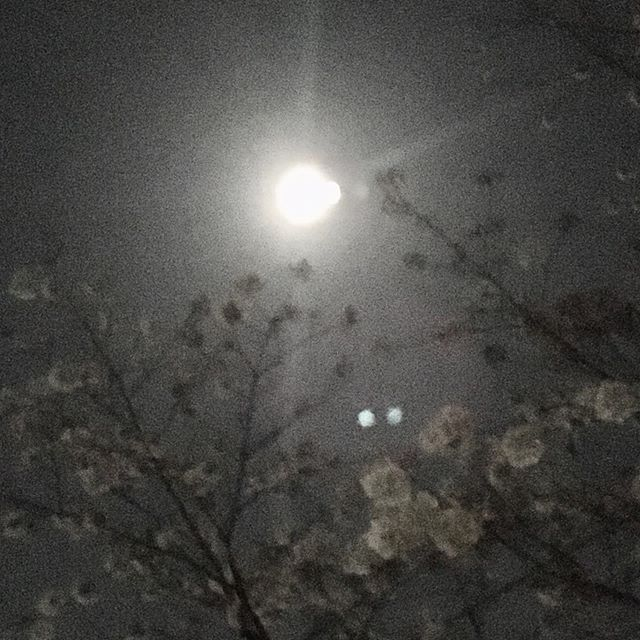sun: (255, 151, 353, 241)
tree: (370, 74, 640, 627), (1, 242, 361, 640)
